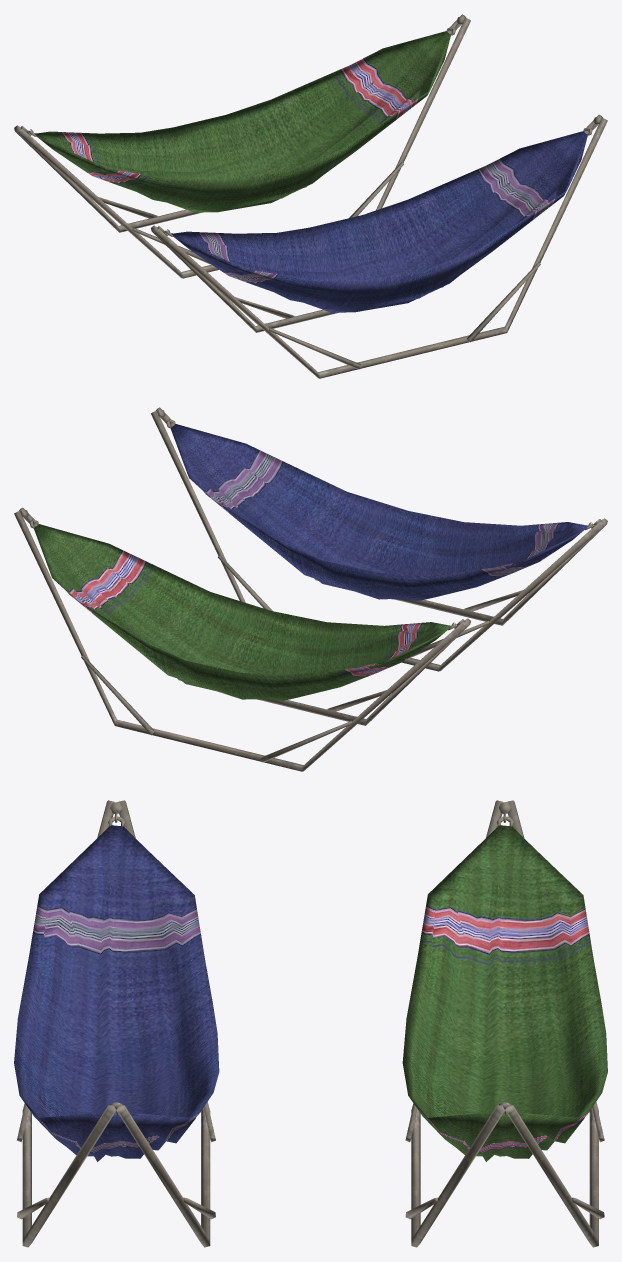
Rendered from vn_hammock.glb.
3 renders of one model, top to bottom at view 1: azimuth 30°, elevation 25°; view 2: azimuth 150°, elevation 25°; view 3: azimuth 270°, elevation 25°, orthographic. The views are drawn at different scales.
Parts seen in each view (by area): view 1: hammock blue_Hammock_0; view 2: hammock blue_Hammock_0; view 3: hammock blue_Hammock_0.
Boxes of the visible parts, bbox=[...] form: hammock blue_Hammock_0: bbox=[14, 14, 607, 378]; hammock blue_Hammock_0: bbox=[14, 407, 607, 771]; hammock blue_Hammock_0: bbox=[14, 800, 607, 1247].
Size of the model in its own units: 2.9 by 1 by 2.32.
Materials: 1 (1 with a texture image).
